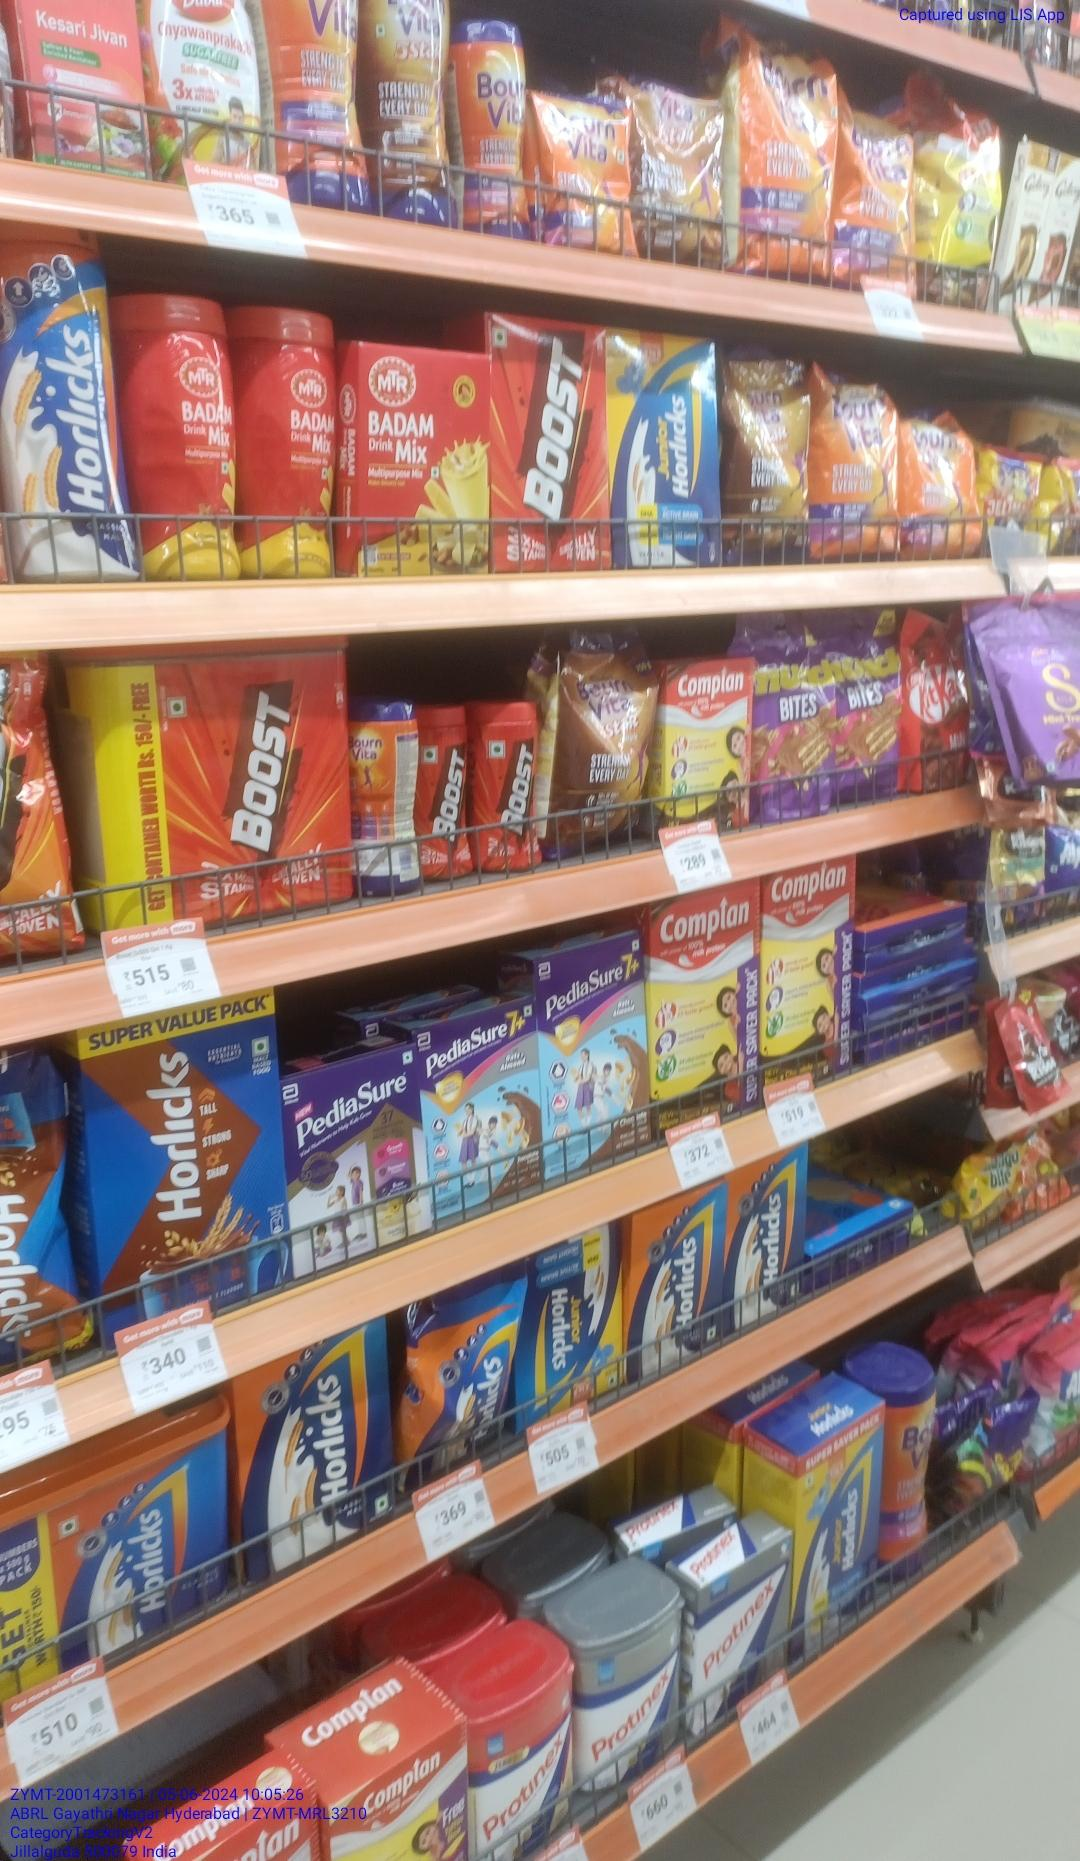BOURN_VITA_FIVE_STAR_MAGIC_500_G_JAR: (357, 1, 451, 224)
BOURN_VITA_FIVE_STAR_MAGIC_500_G_POUCH: (631, 73, 721, 260)
BOURN_VITA_FIVE_STAR_MAGIC_750_G_POUCH: (541, 628, 656, 850), (717, 339, 810, 563)
PEDIASURE_7_PLUS_CHOCOLATE_400_G_PACK: (419, 999, 537, 1226), (545, 934, 652, 1185)
PEDIASURE_VANILLA_500_G_PACK: (273, 1044, 413, 1276)
PROTINEX_ORIGINAL_400_G_JAR: (580, 1585, 683, 1793)
PROTINEX_VANILLA_400_G_JAR: (469, 1637, 572, 1861)
